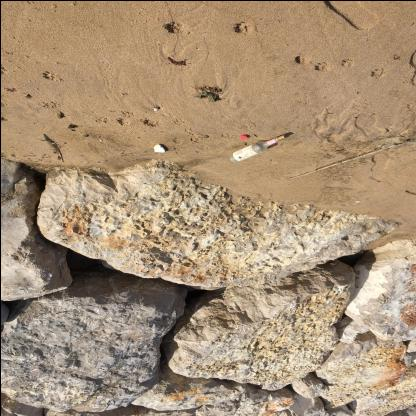Plastic: (227, 136, 279, 163), (373, 135, 416, 148), (196, 92, 215, 102), (239, 134, 247, 139)
Waste: (153, 143, 164, 152)
